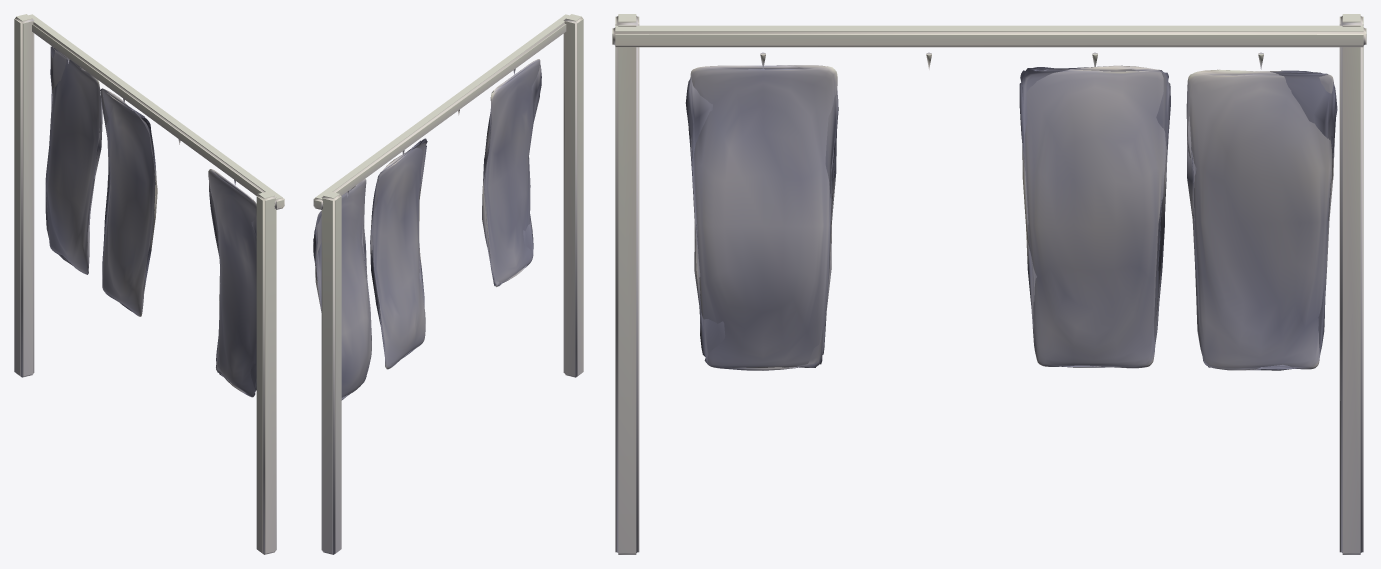
Rendered from skin-rack.glb.
The picture shows the model from 3 angles, left to right: view 1: azimuth 30°, elevation 25°; view 2: azimuth 150°, elevation 25°; view 3: azimuth 270°, elevation 25°; orthographic projection. The views are drawn at different scales.
Parts seen in each view (by area): view 1: body; view 2: body; view 3: body.
Part boxes in pixels (x1=…): body: x1=14, y1=14, x2=284, y2=554; body: x1=313, y1=14, x2=583, y2=554; body: x1=612, y1=14, x2=1366, y2=554.
Bounding box in the file's own units: 0.1988 × 1.95 × 2.5.
